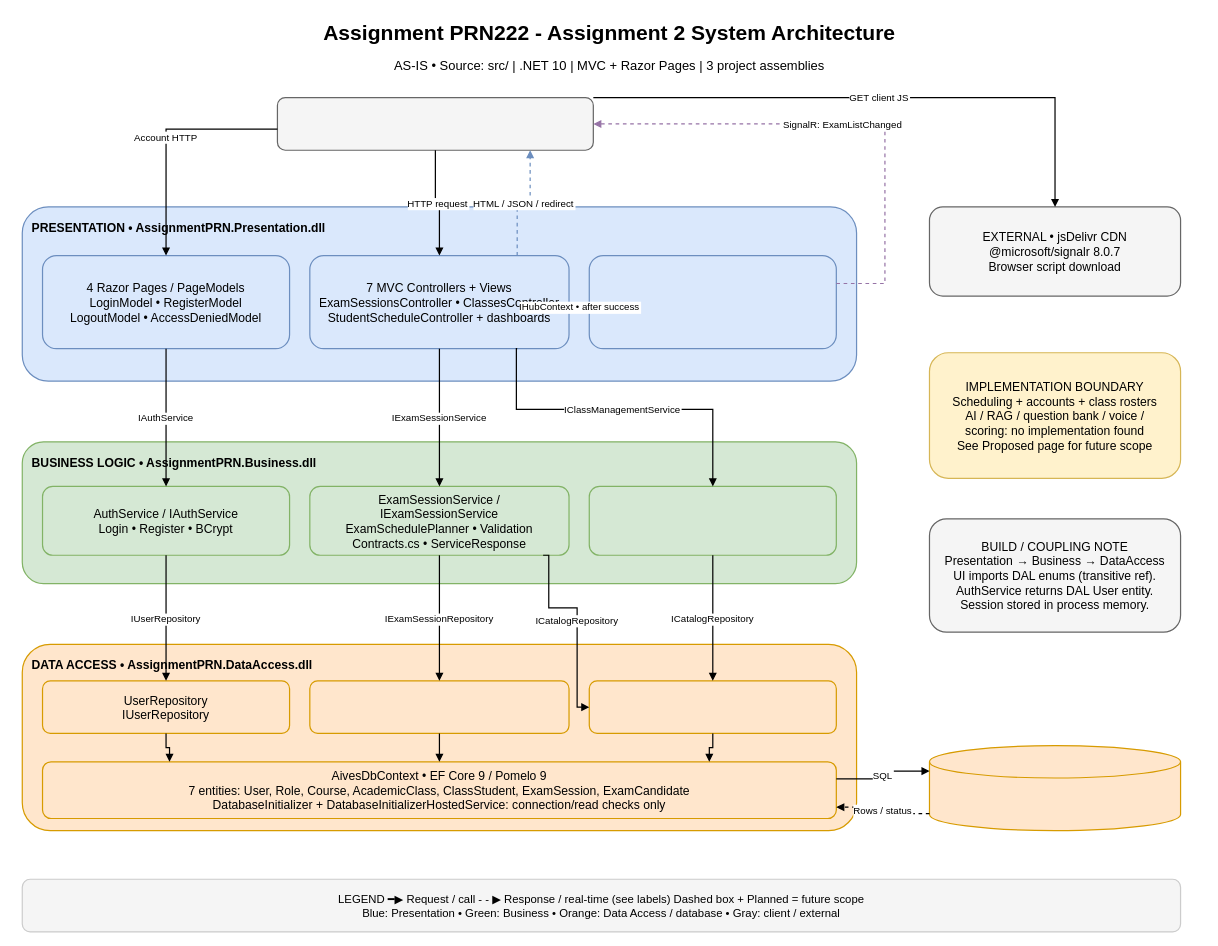
The diagram is 1218 pixels wide and 946 high, and some of its shapes have lost their labels. The centre of each missing label's shape, as x and y in pixels:
Browser Admin • Lecturer • Student: the point at 435,123
CatalogRepository ICatalogRepository: the point at 712,707
ClassManagementService IClassManagementService Membership rules: the point at 712,520
ExamSessionRepository IExamSessionRepository • Transactions: the point at 439,707
ExamUpdatesHub (1 Hub) /hubs/exam-updates Session gate • push notifications: the point at 712,302
EXTERNAL • MySQL Provider configured for 8.4.8 Actual server version unverified: the point at 1055,788
